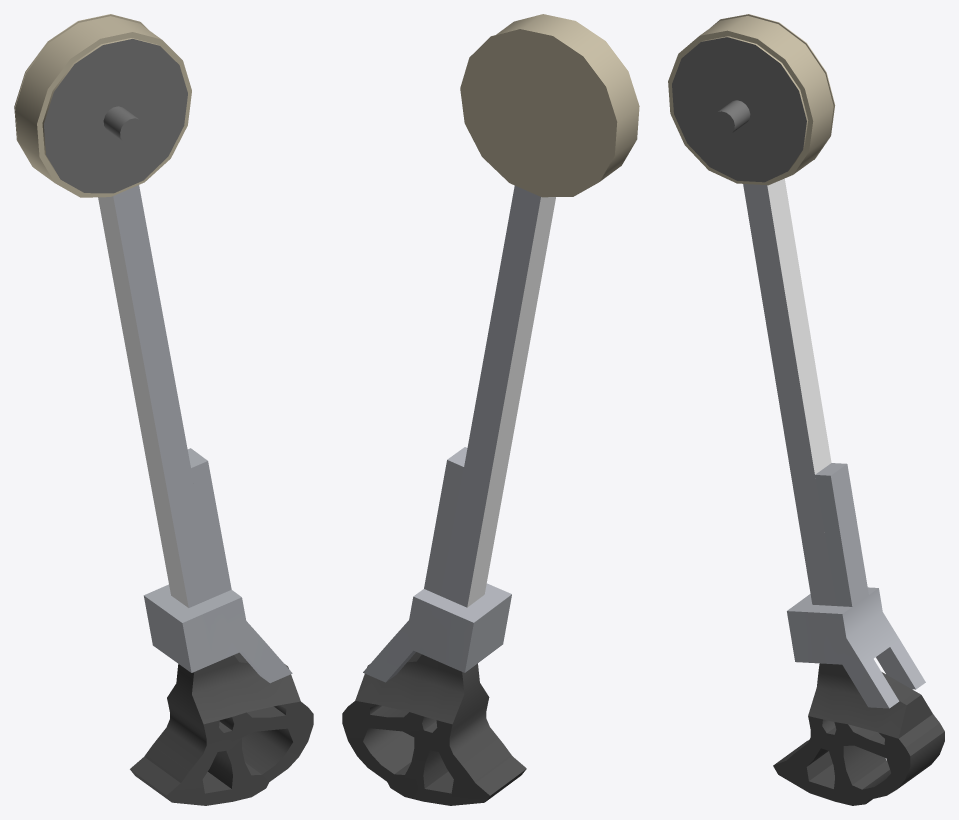
Rendered from SILVER2_TibiaFoot.fbx.
The picture shows the model from 3 angles, left to right: view 1: azimuth 30°, elevation 25°; view 2: azimuth 150°, elevation 25°; view 3: azimuth 330°, elevation 25°; orthographic projection. The views are drawn at different scales.
Visible parts, largest first — view 1: Tibia; view 2: Tibia; view 3: Tibia.
Part boxes in pixels (bbox=[...]): Tibia: bbox=[14, 14, 313, 805]; Tibia: bbox=[342, 14, 639, 805]; Tibia: bbox=[668, 14, 944, 805].
Bounding box in the file's own units: 0.8838 × 2.48 × 0.2684.
1 material, 1 textured.
